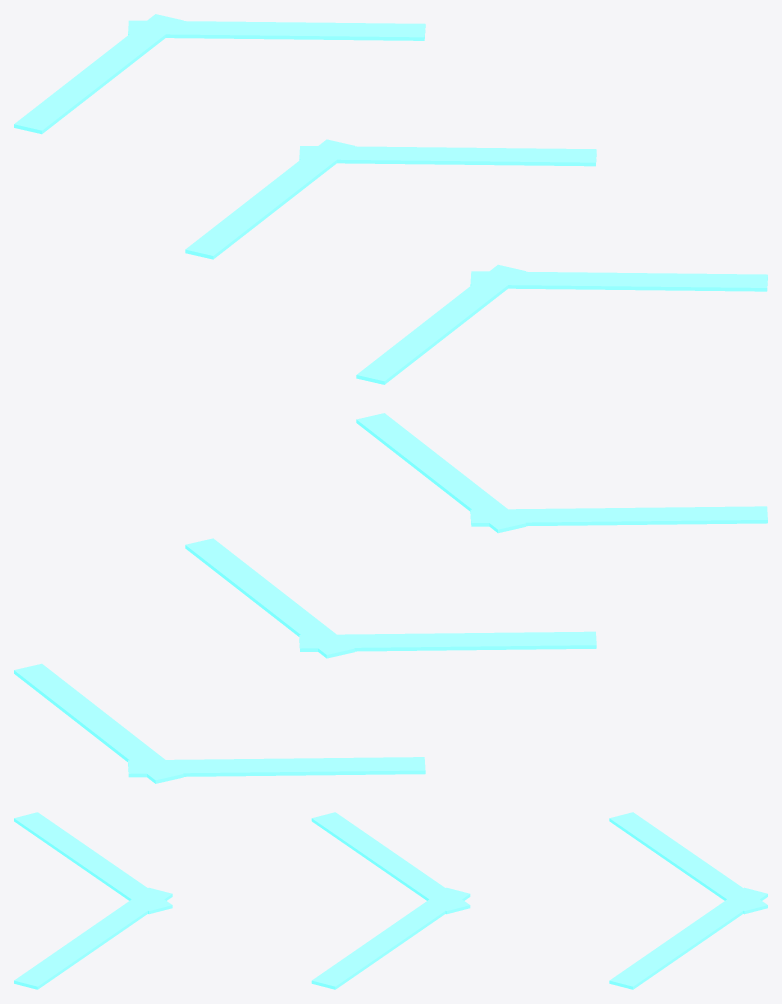
File: jump-cue.glb
3 views of the same model, one above another, from view 1: azimuth 30°, elevation 25°; view 2: azimuth 150°, elevation 25°; view 3: azimuth 270°, elevation 25° (orthographic). The views are drawn at different scales.
Parts seen in each view (by area): view 1: jump-cue; view 2: jump-cue; view 3: jump-cue.
Boxes of the visible parts, x1=… form: jump-cue: x1=14, y1=14, x2=767, y2=384; jump-cue: x1=14, y1=413, x2=767, y2=783; jump-cue: x1=14, y1=812, x2=767, y2=989.
Size of the model in its own units: 4.16 by 0.035 by 7.6.
